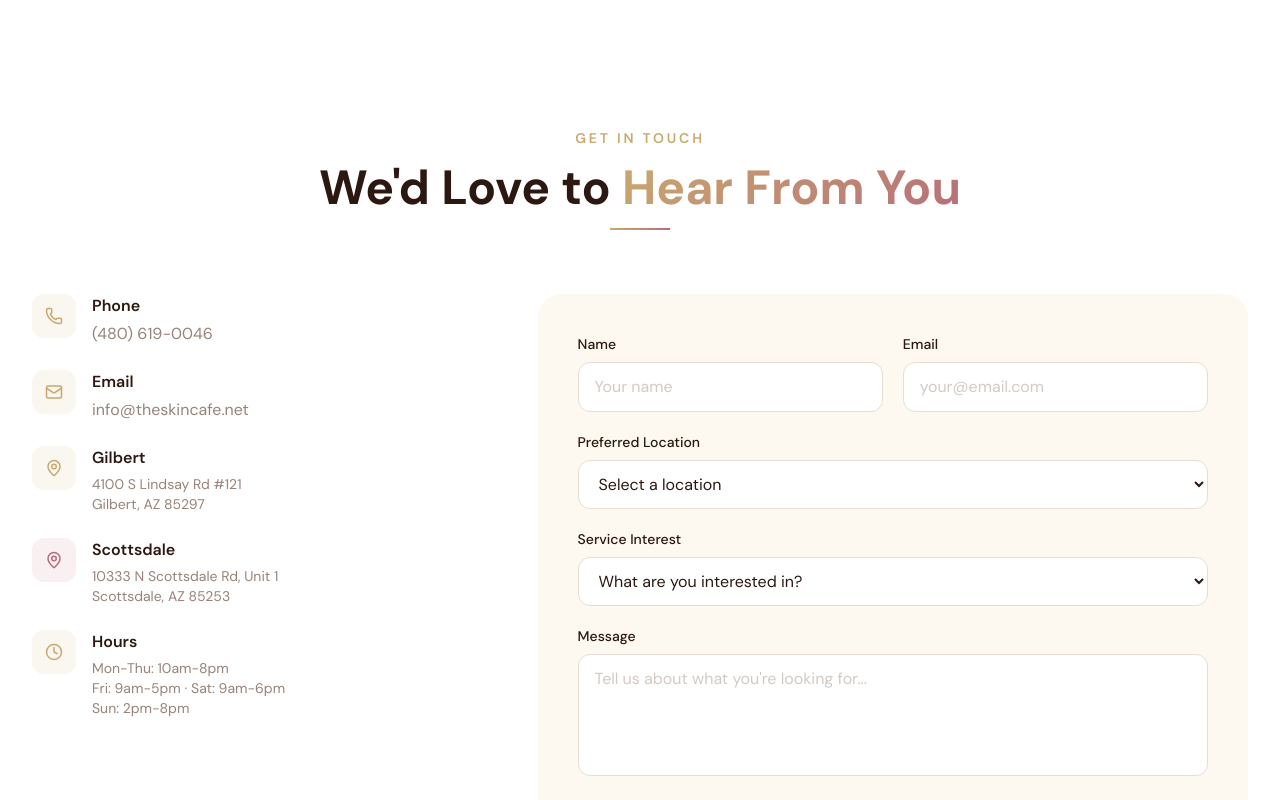
Scenario: Contact form › renders an error with role="alert" on failure (form remains visible)
Type "Jane" into the field labelled "Name" at (730, 387), box [578,362,883,412]
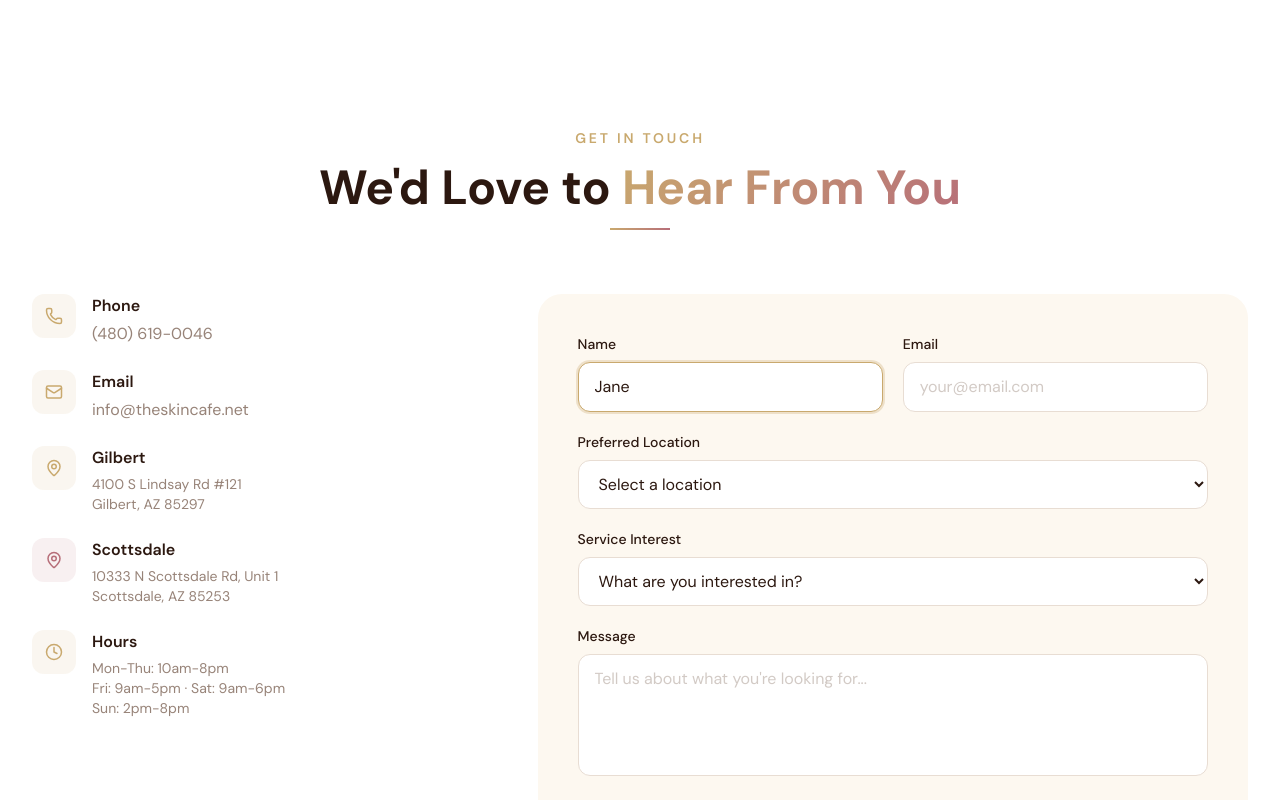
Type "jane@example.com" into the field labelled "Email" at (1055, 387), box [903,362,1208,412]
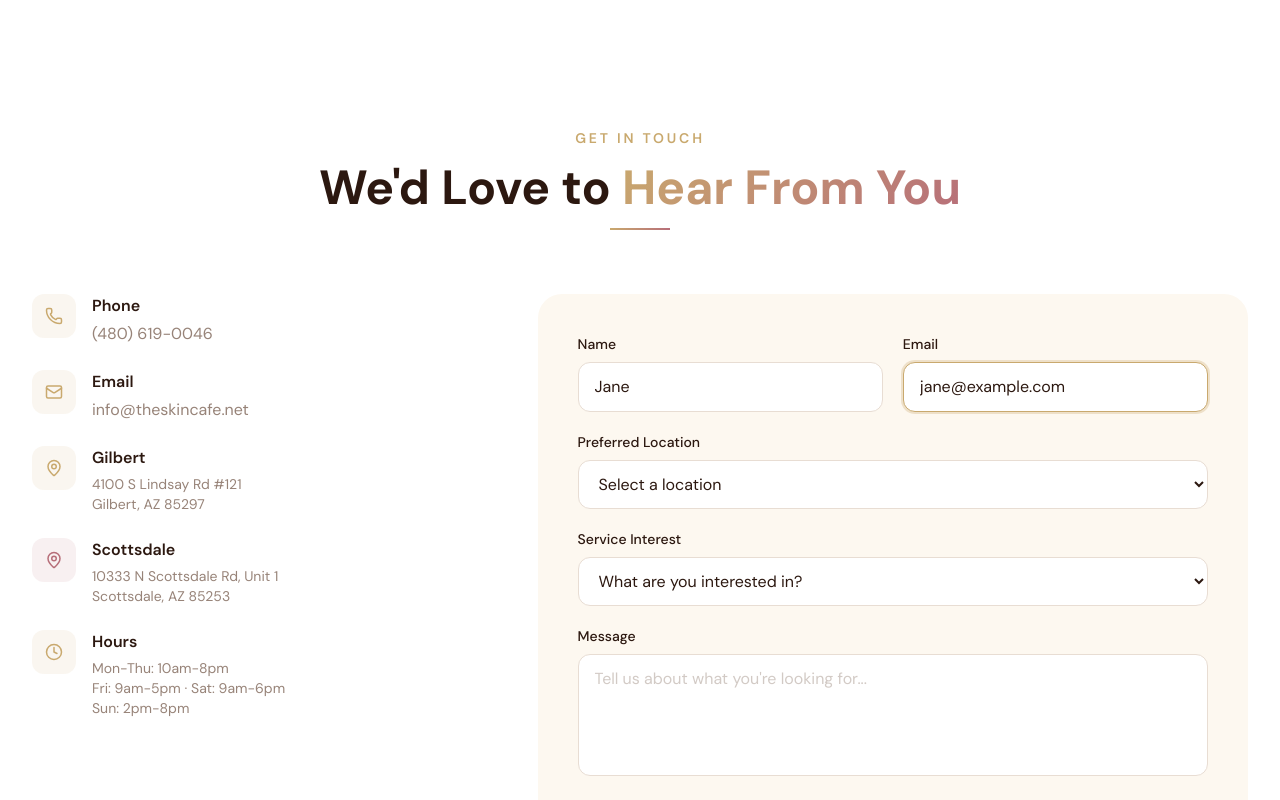
Type "hello" into the text box labelled "Message" at (893, 715), box [578,654,1208,776]
(page scrolled)
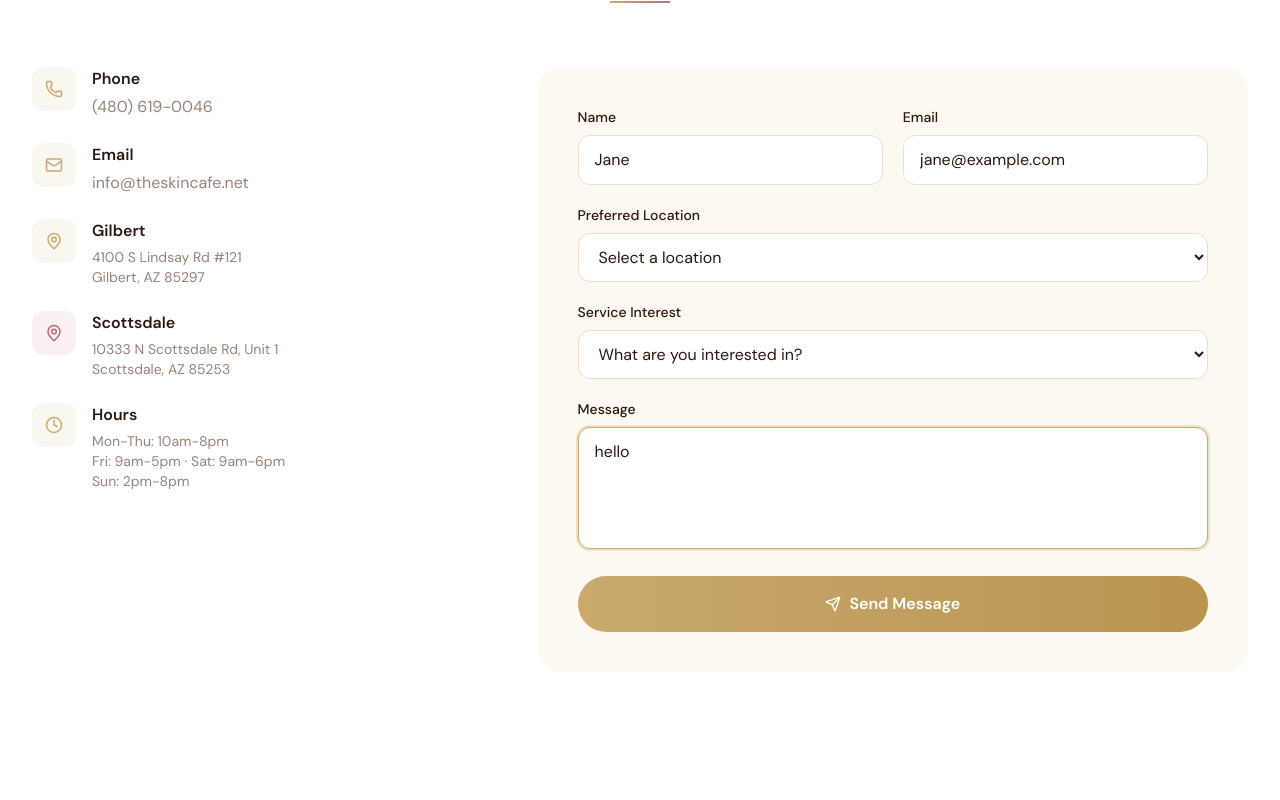
Click the button "Send Message" at (893, 604), box [578,576,1208,632]
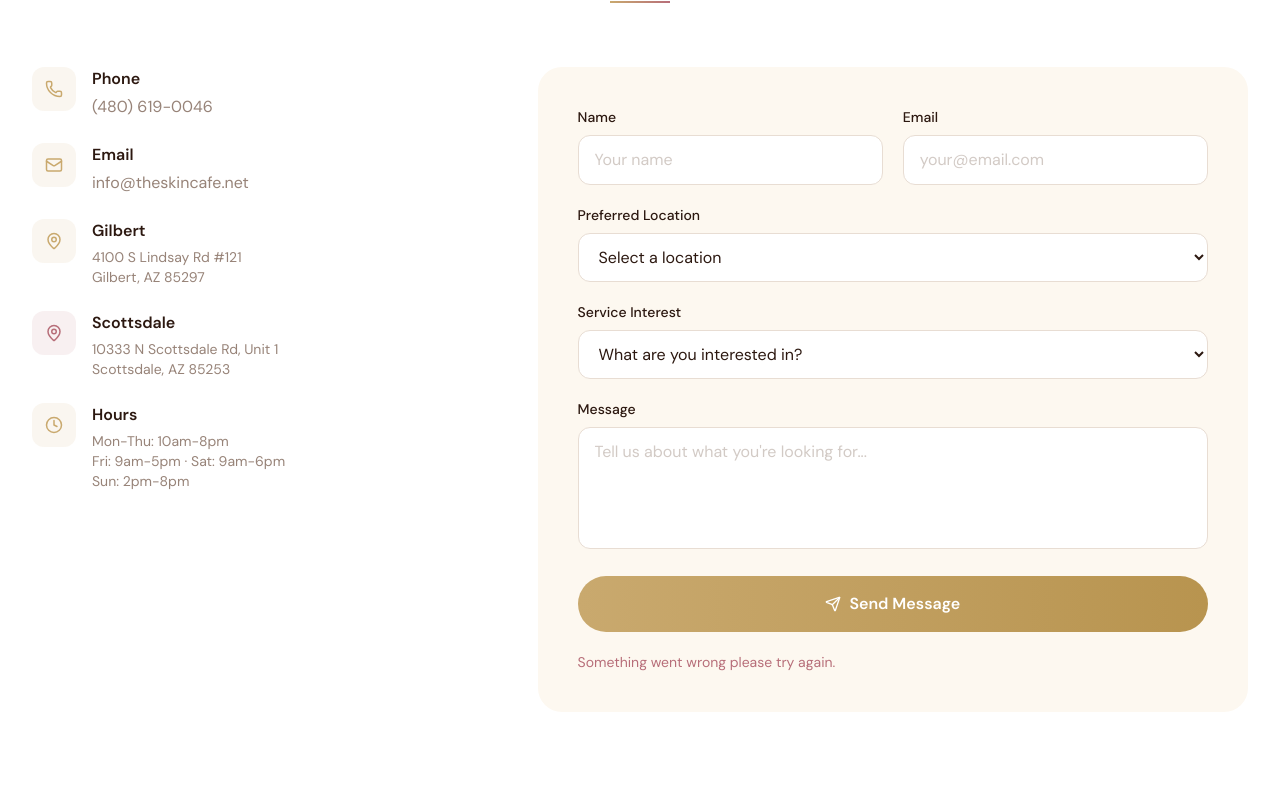
Expected: the field labelled "Name" is shown, [578,135,883,185]
Expected: the message shows "Something went wrong", [578,653,835,671]
